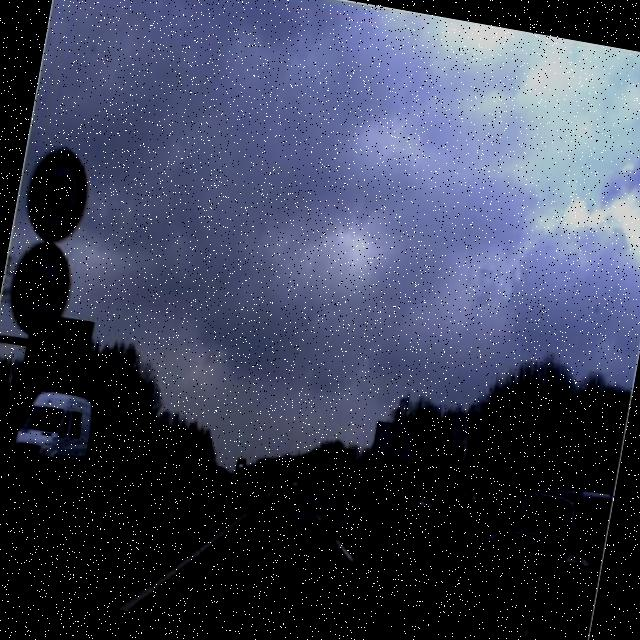Ograniczenie predkosci do 120: (20, 142, 94, 248)
Zakaz wyprzedzania: (2, 240, 76, 346)
